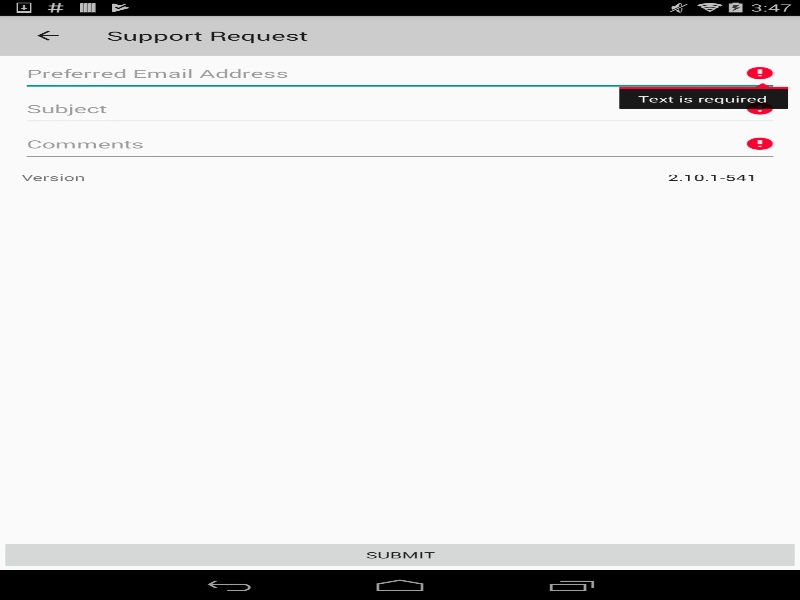Button: (0, 540, 800, 570), (10, 15, 85, 55)
Input: (21, 90, 778, 126), (21, 55, 778, 90), (21, 126, 778, 161)
